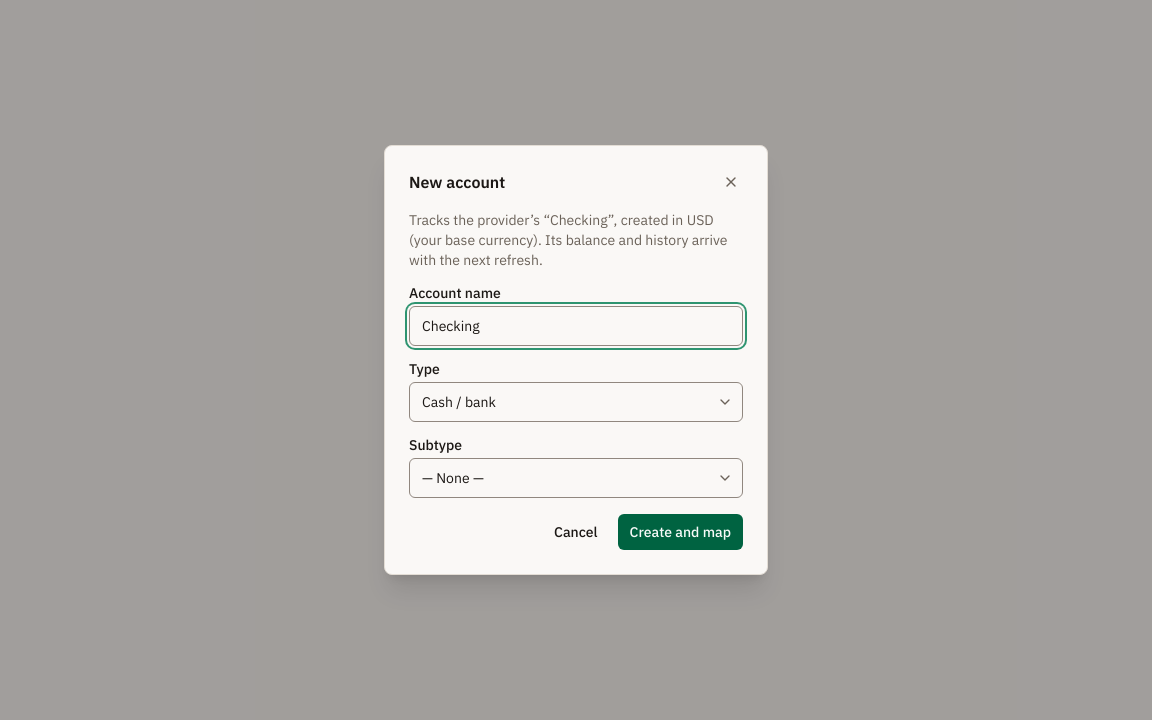
Test case: NewMappedAccountDialog › shows the guard's refusal when the dialog's own state was stale (pxi.8)
Click the button "Create and map" at (680, 532), box 618,514 -> 743,550
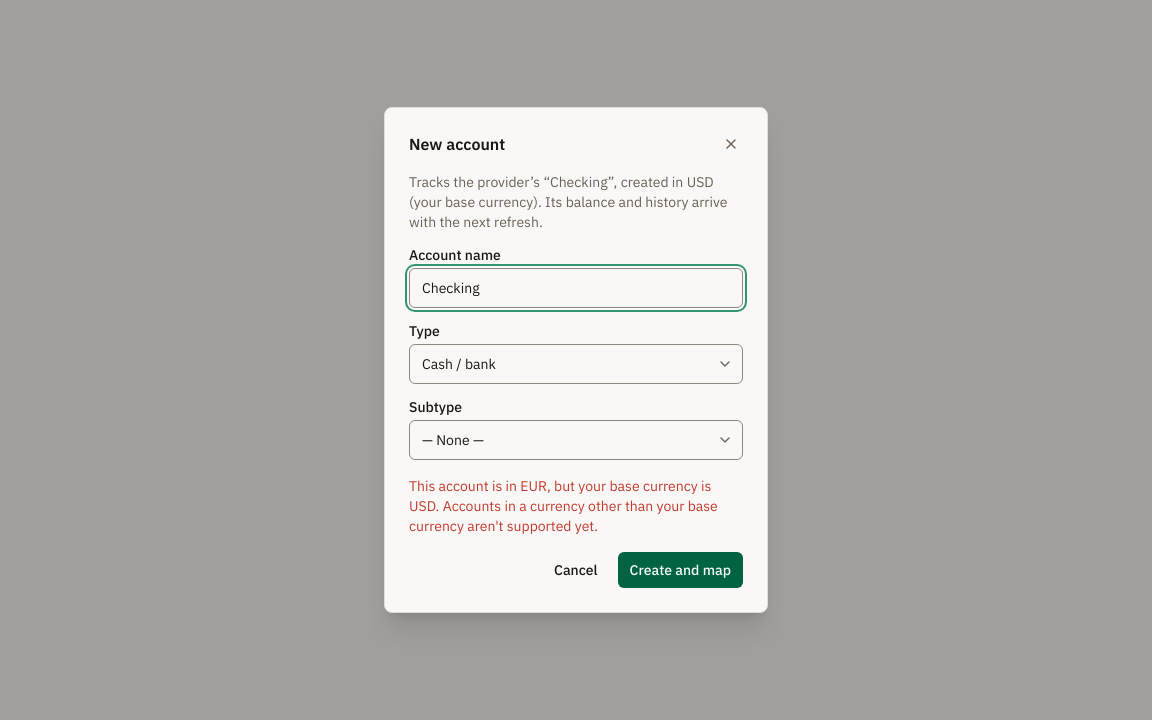
Result: the message shows "This account is in EUR, but your base currency is USD. Accounts in a currency other than your base currency aren't supported yet." at 409,477 -> 718,535
